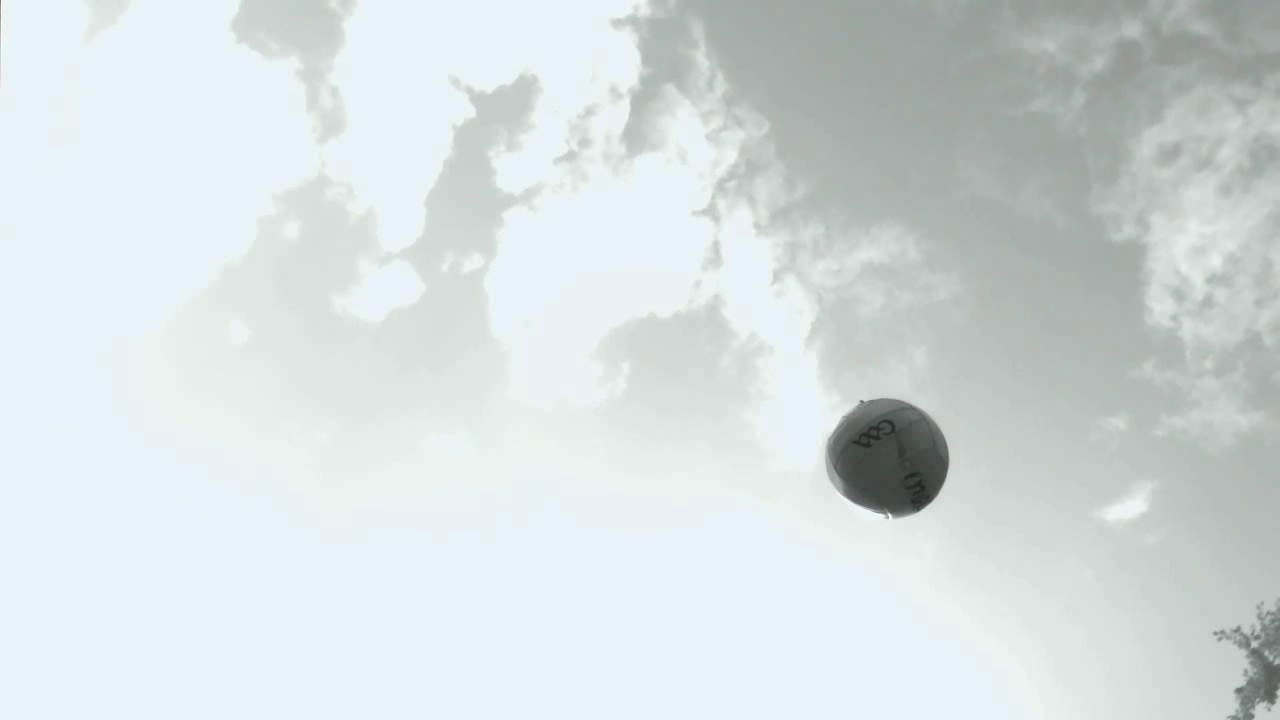Football-Spotter: (827, 398, 948, 517)
